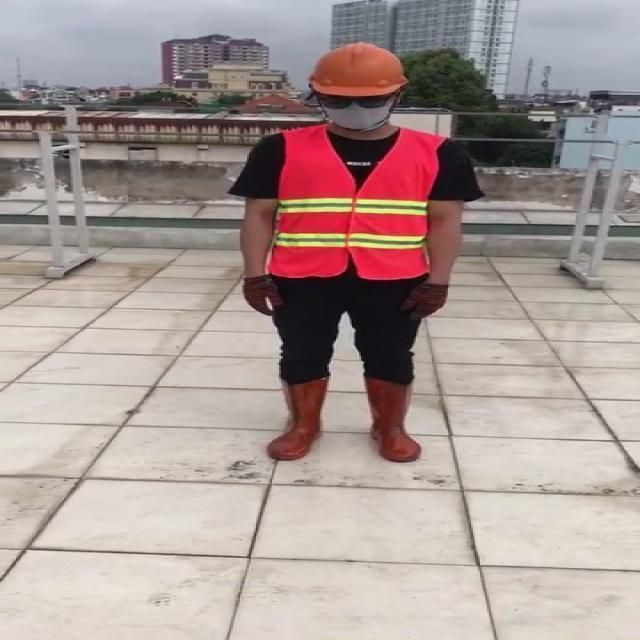gloves: (399, 281, 449, 324), (241, 273, 282, 317)
goggles: (309, 96, 394, 109)
helmet: (303, 39, 410, 99)
safety_vest: (269, 126, 439, 278)
